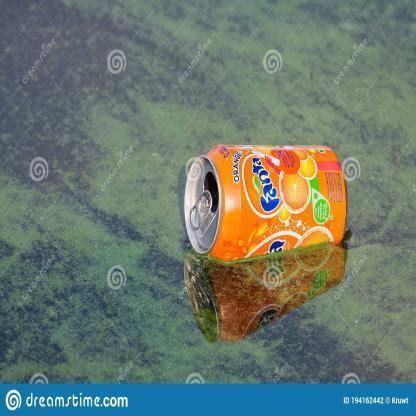can: (182, 144, 349, 257)
